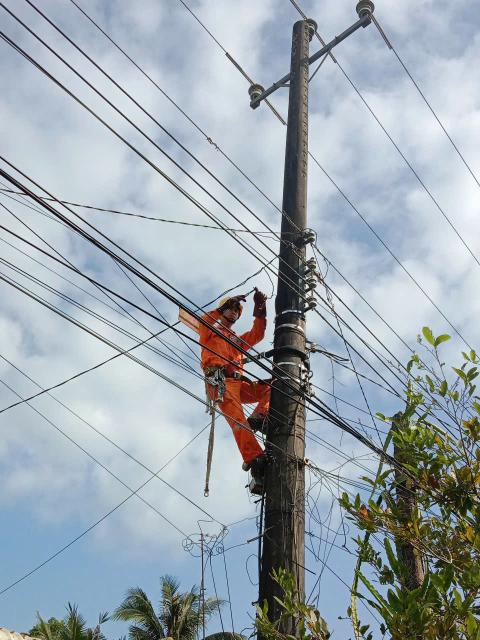gloves: (246, 287, 271, 320), (211, 293, 249, 311)
harness: (203, 357, 259, 382)
helmet: (216, 293, 248, 316)
shoes: (243, 412, 276, 431), (243, 446, 267, 468)
